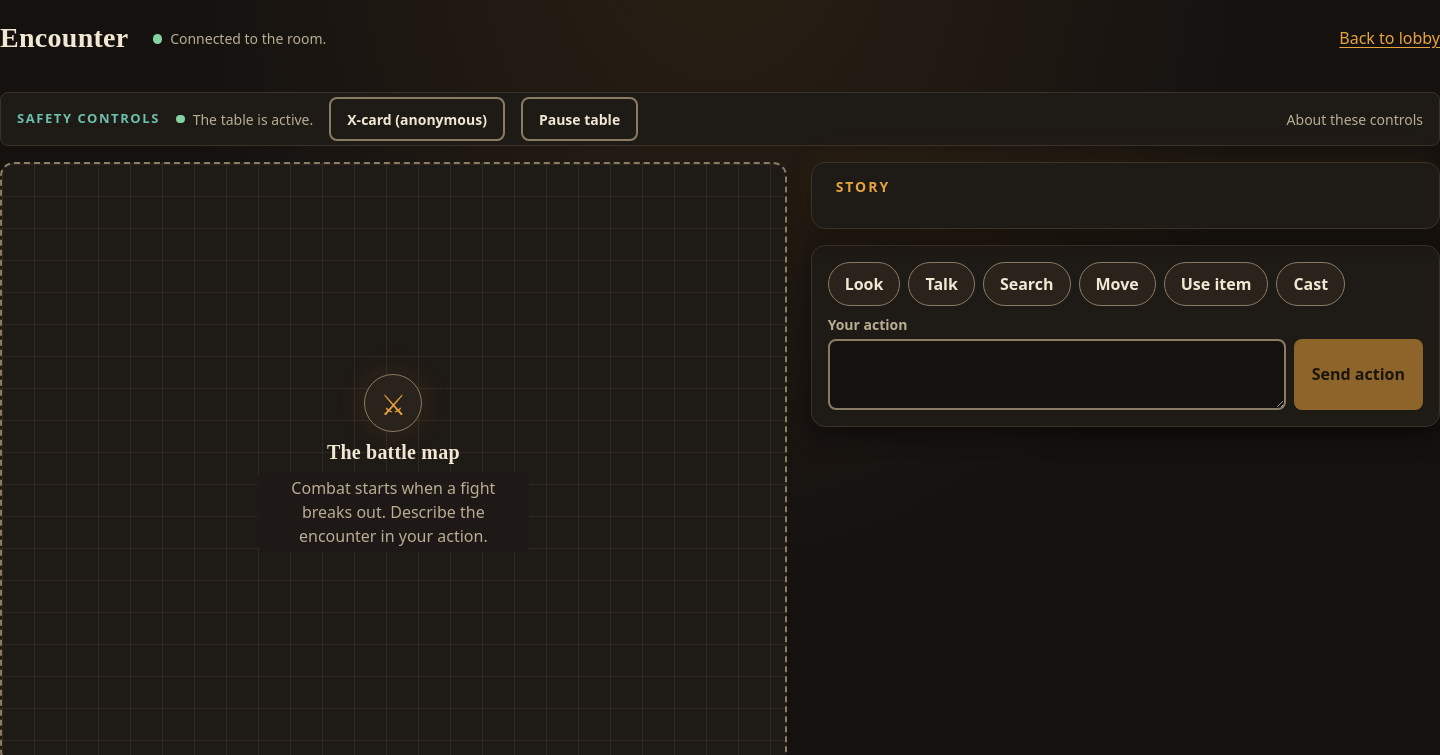
Test case: Game screen (live Room) › shows a clarifying question only to the seat whose own action it asks about
Type "I ask the innkeeper." into the text box labelled "Your action" at (1057, 374), box [828, 339, 1286, 410]
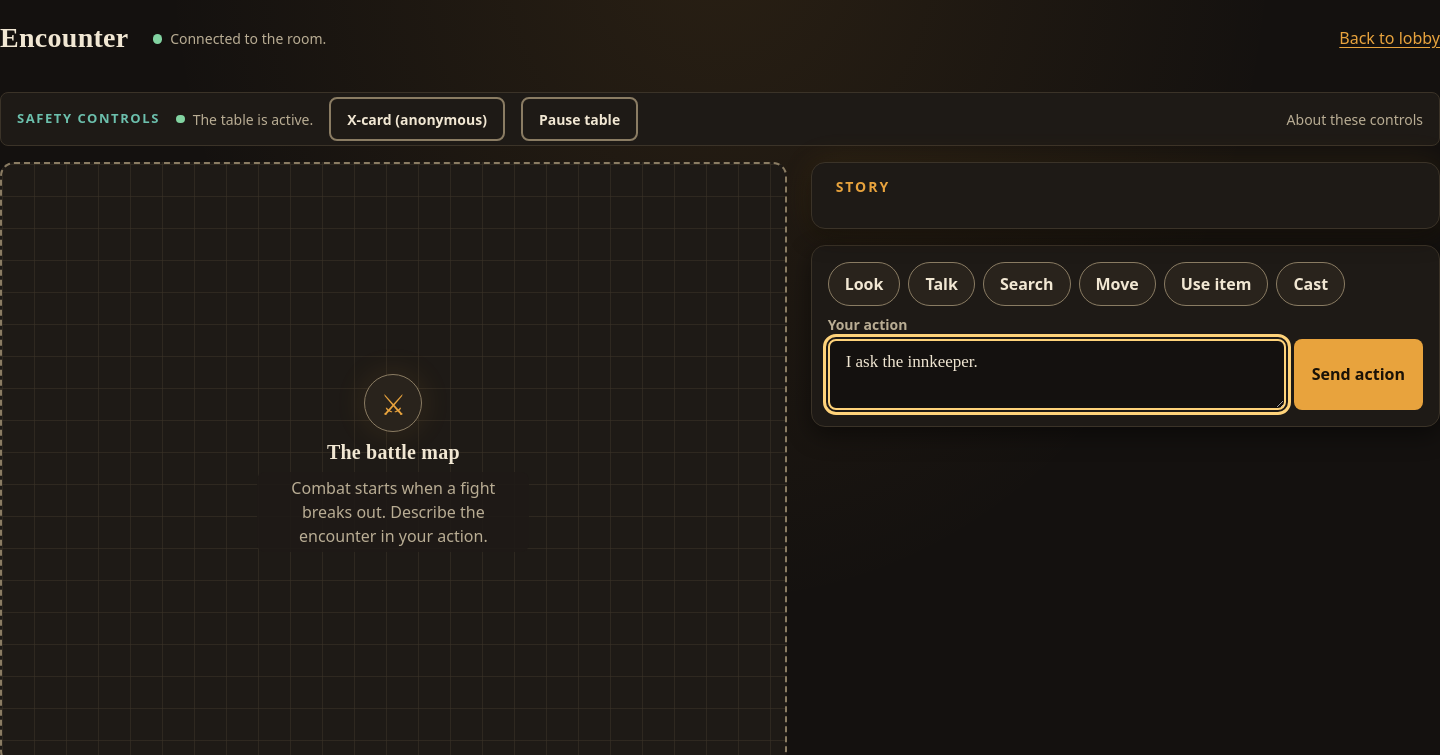
Click the button "Send action" at (1358, 374), box [1294, 339, 1423, 410]
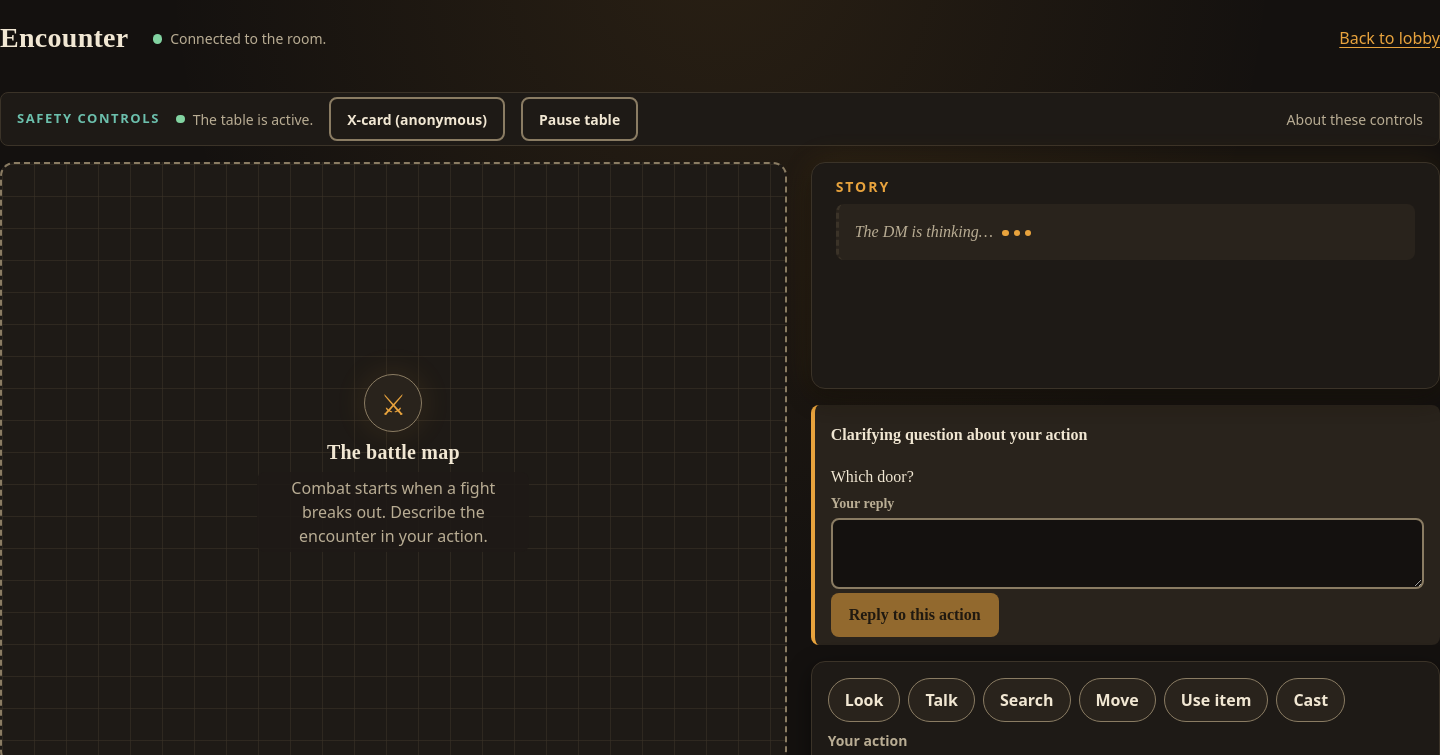
expect the form named "Reply to clarifying question" shows "Which door?": met, box [831, 468, 914, 485]
